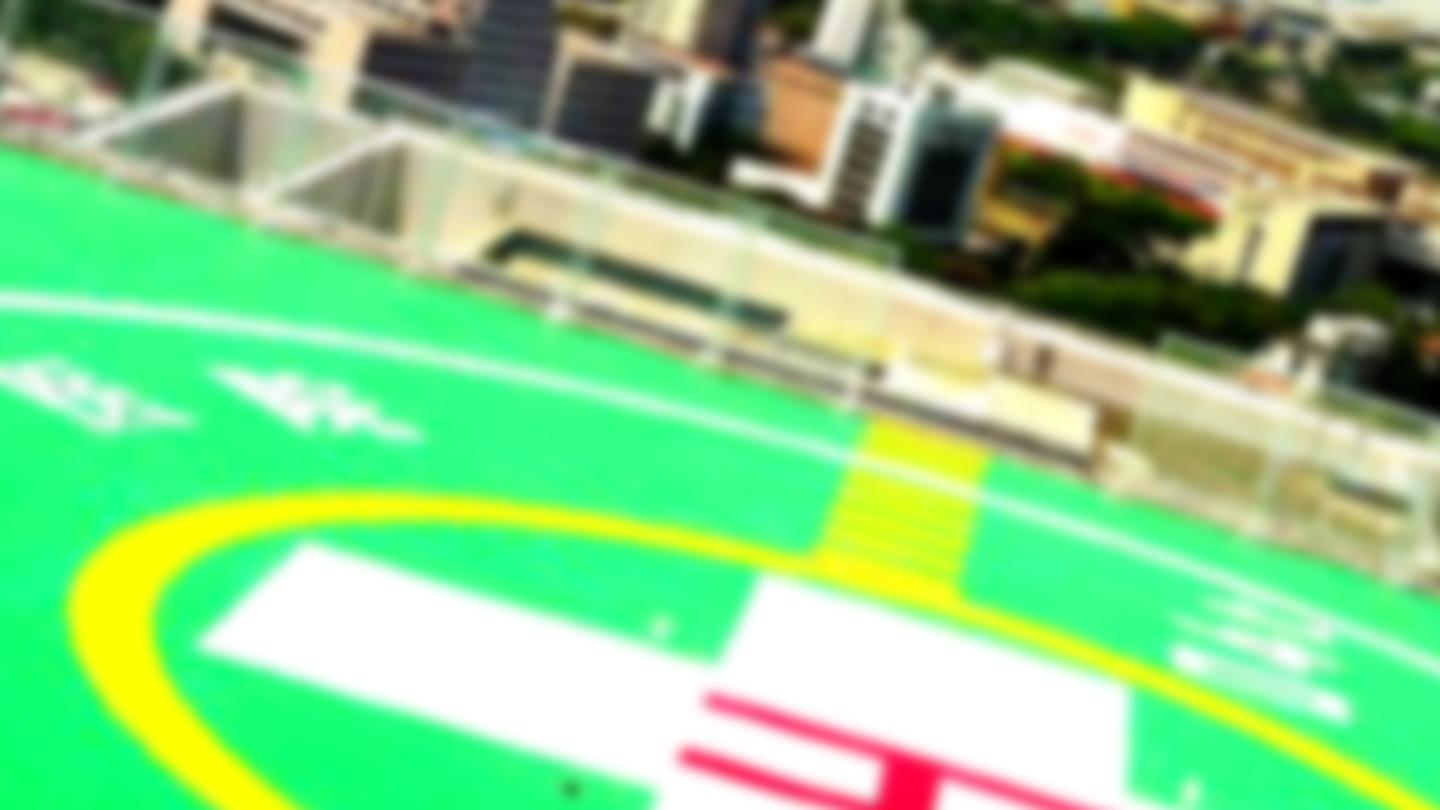Apron: (54, 431, 1440, 810)
